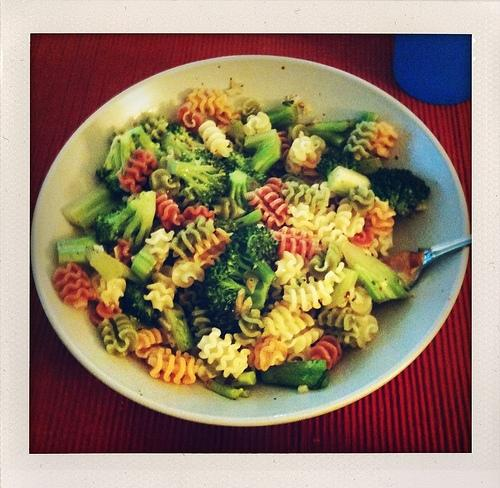broccoli: (202, 233, 282, 339), (340, 242, 414, 304), (88, 190, 156, 255), (226, 130, 283, 188), (369, 167, 432, 217), (62, 182, 120, 234), (307, 111, 379, 150), (256, 360, 329, 391), (161, 132, 220, 168), (121, 279, 161, 329), (158, 303, 194, 352), (221, 170, 254, 217), (327, 166, 372, 197), (266, 103, 297, 133), (205, 377, 244, 400)
